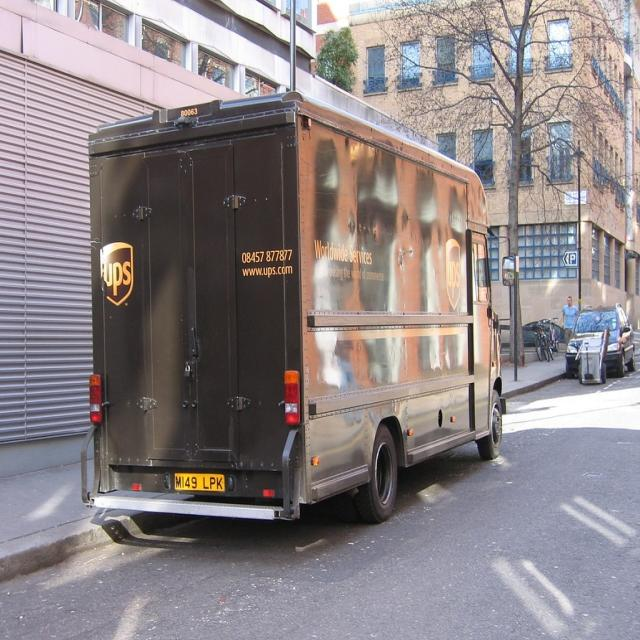ups: (100, 243, 135, 309), (445, 239, 464, 310)
